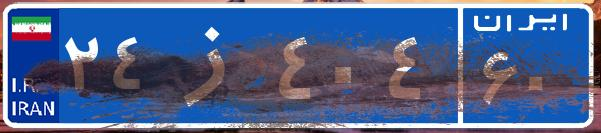0: (330, 28, 385, 110), (525, 38, 570, 115)
2: (57, 26, 110, 107)
4: (385, 28, 445, 110), (273, 28, 330, 110), (110, 28, 158, 105)
6: (475, 38, 525, 113)
ز: (158, 15, 273, 115)
